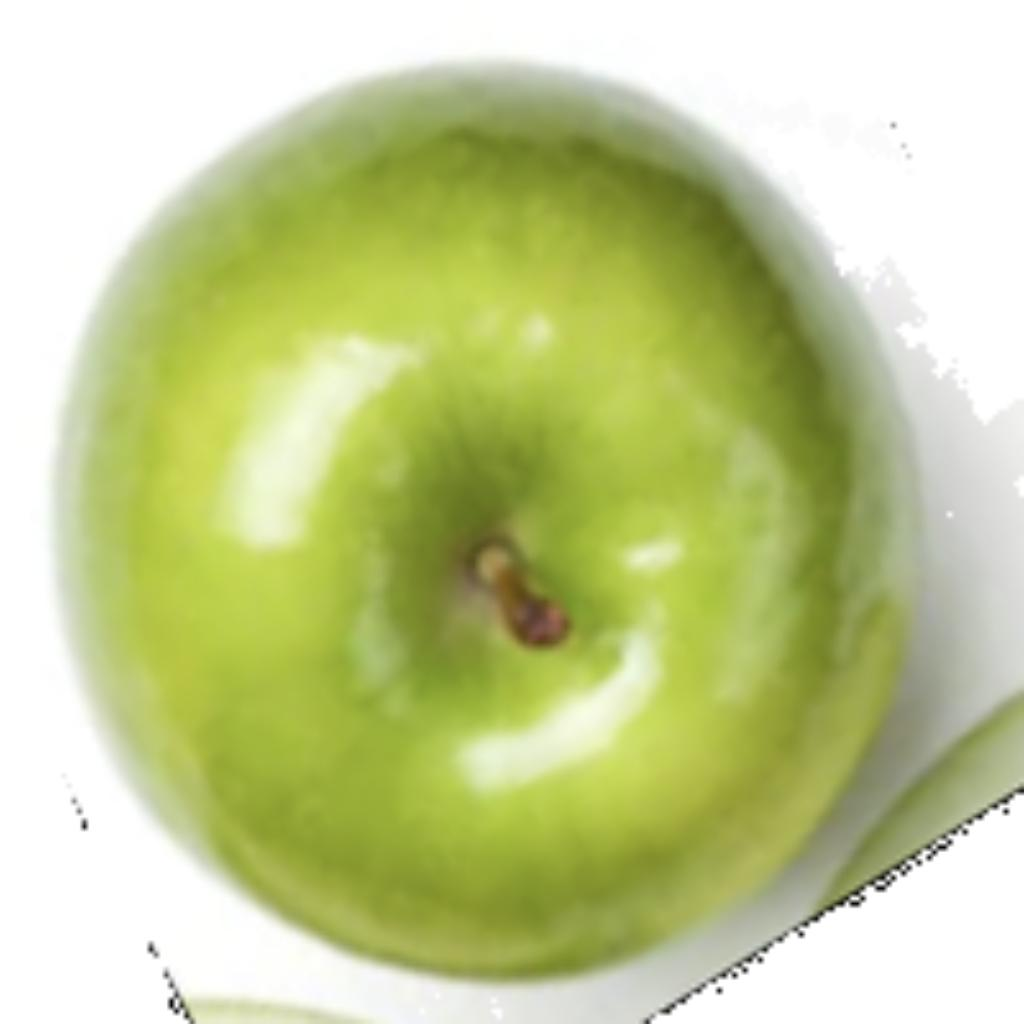apple: (41, 46, 1019, 1012)
